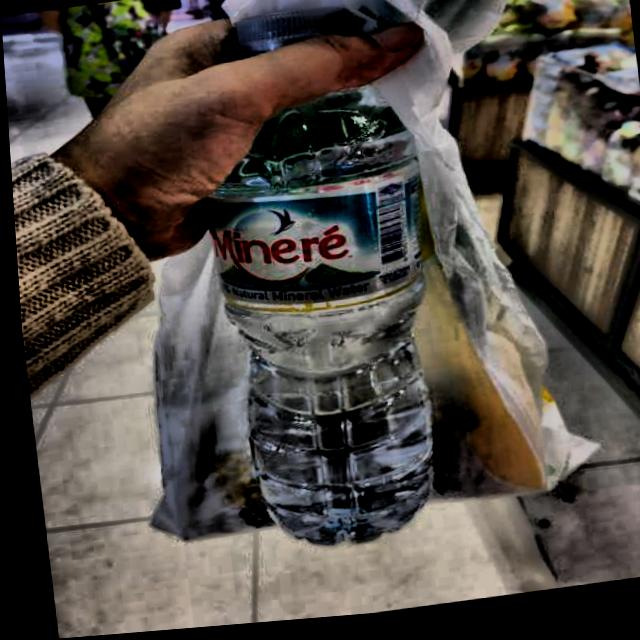Bottles: (151, 0, 496, 579)
